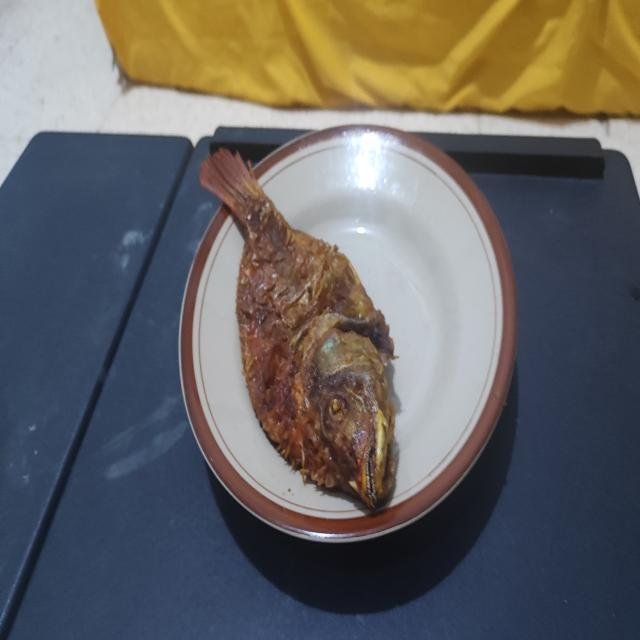ikan_mujair: (200, 148, 398, 509)
